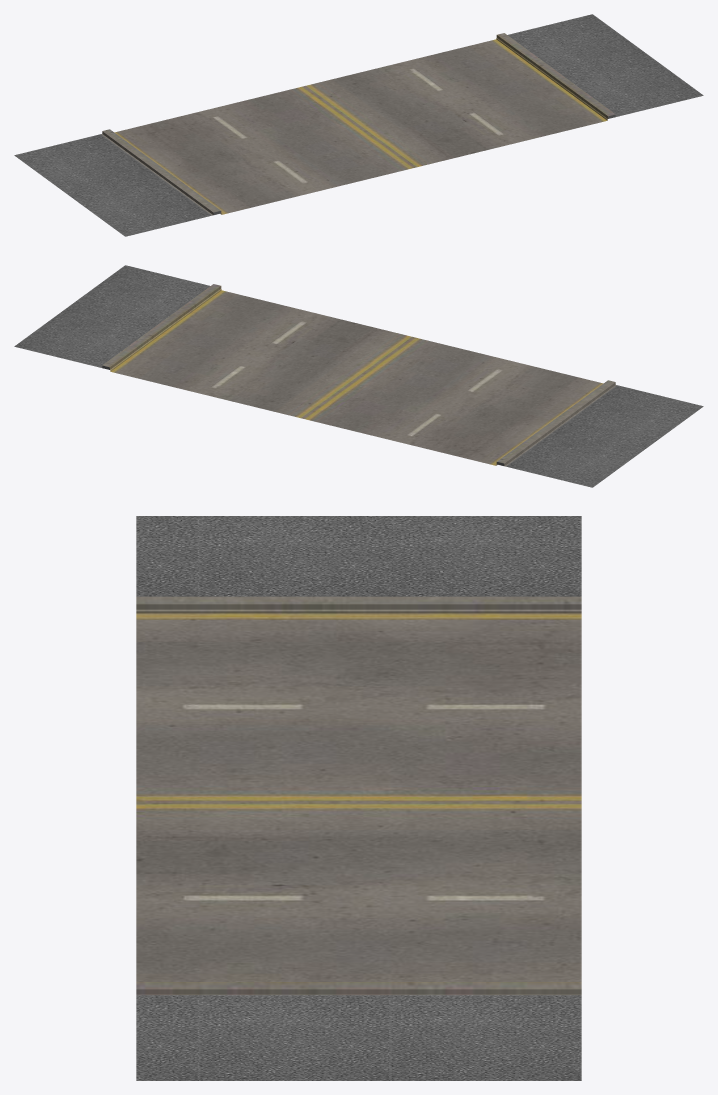
File: Road_part.fbx
3 renders of one model, top to bottom at view 1: azimuth 30°, elevation 25°; view 2: azimuth 150°, elevation 25°; view 3: azimuth 270°, elevation 25°, orthographic. The views are drawn at different scales.
Visible parts, largest first — view 1: mcp_roads_part_02; view 2: mcp_roads_part_02; view 3: mcp_roads_part_02.
Boxes of the visible parts, <box> form: mcp_roads_part_02: <box>14,14,703,236</box>; mcp_roads_part_02: <box>14,265,703,487</box>; mcp_roads_part_02: <box>136,516,581,1080</box>.
Bounding box in the file's own units: 3000 × 21.46 × 1000.
